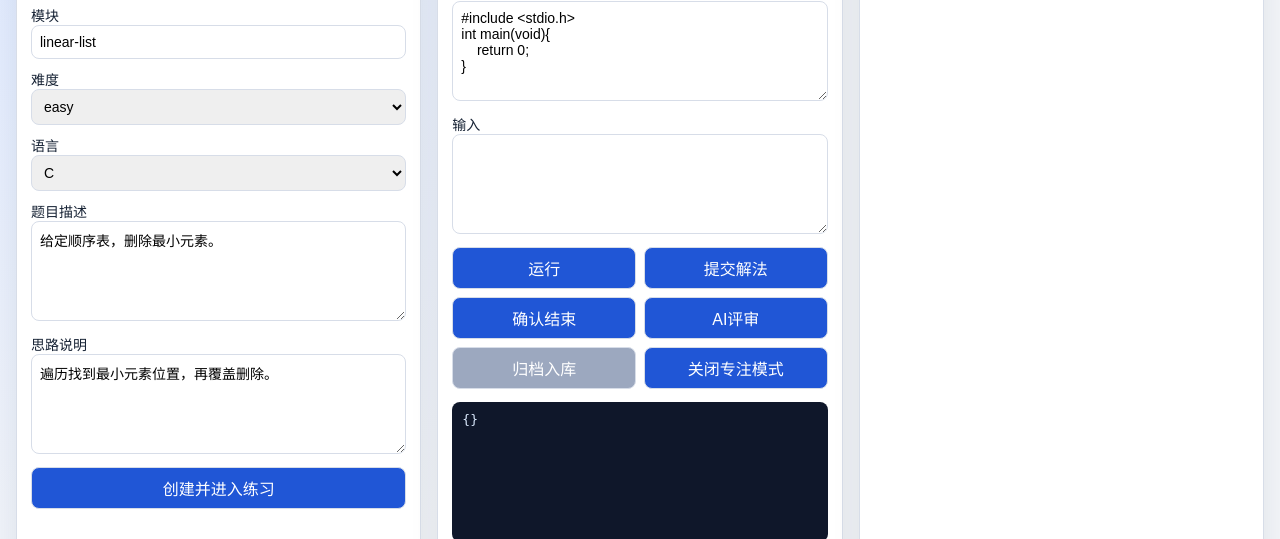
Test case: shows review score cards after AI review result
The width and height of the screenshot is (1280, 539).
Click the button "创建并进入练习" at (219,488), box [31,467,406,509]
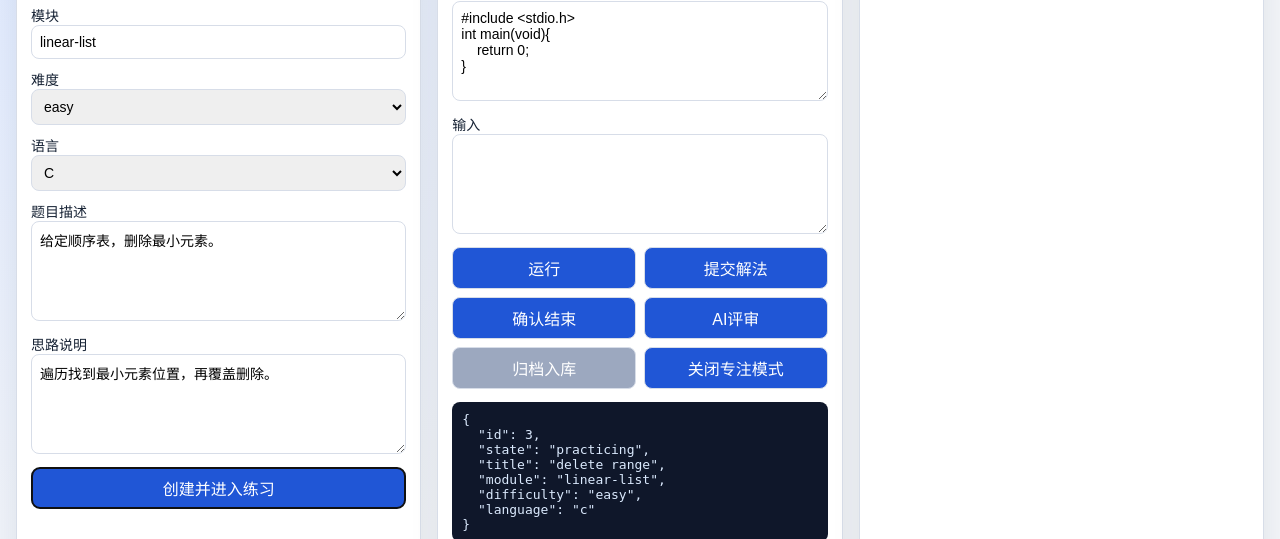
Click the button "AI评审" at (736,318), box [644,297,828,339]
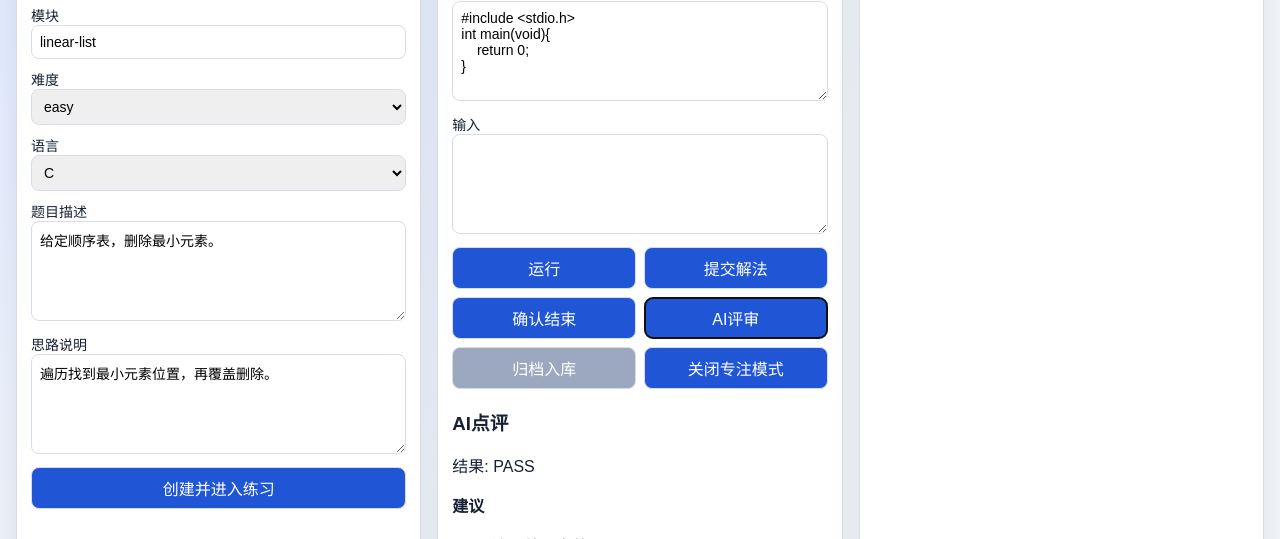
Expected: the text "评审评分" is not shown
Click the button "关闭专注模式" at (736,368), box [644,347,828,389]
(page scrolled)
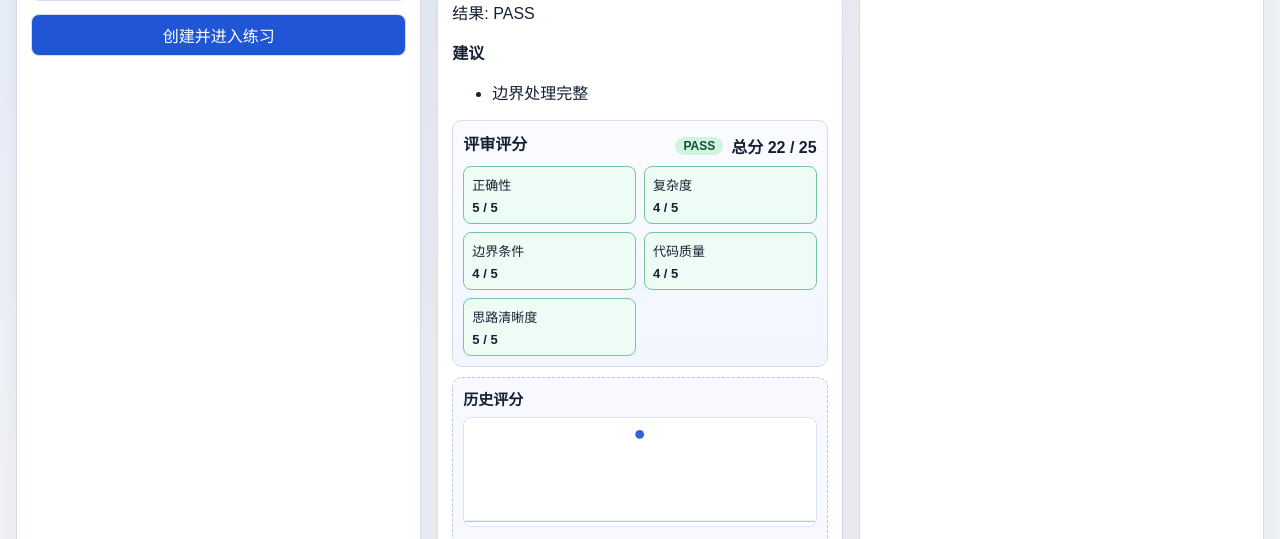
Now the heading "评审评分" is shown, box [463,131,527,155]
Now the text "总分 22 / 25" is shown, box [731,134,817,158]
Now the text "正确性" is shown, box [472,178,511,193]
